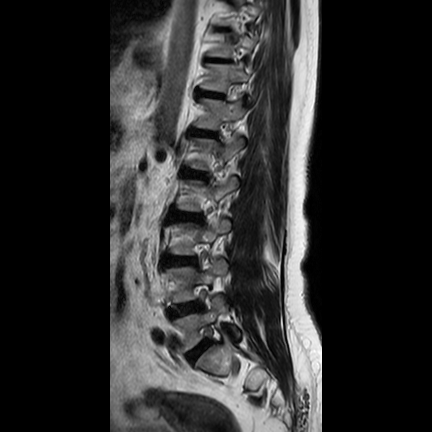LFS0: (193, 318, 230, 357), (187, 275, 221, 316), (183, 237, 216, 277)
